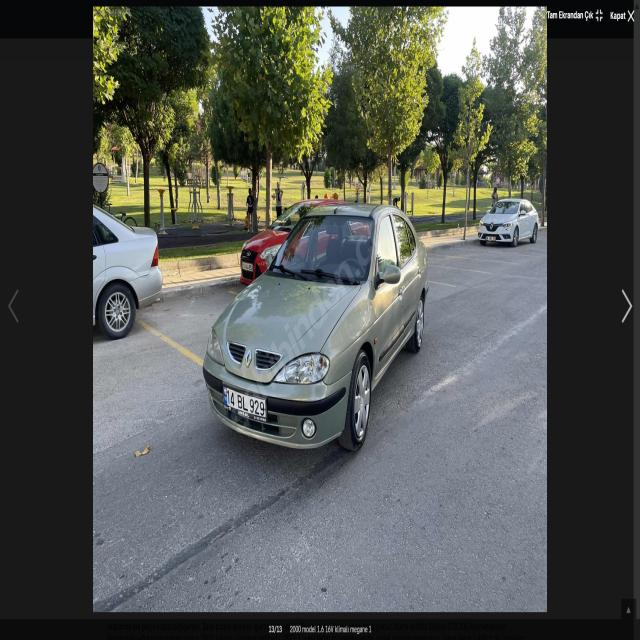renault: (243, 340, 255, 377)
